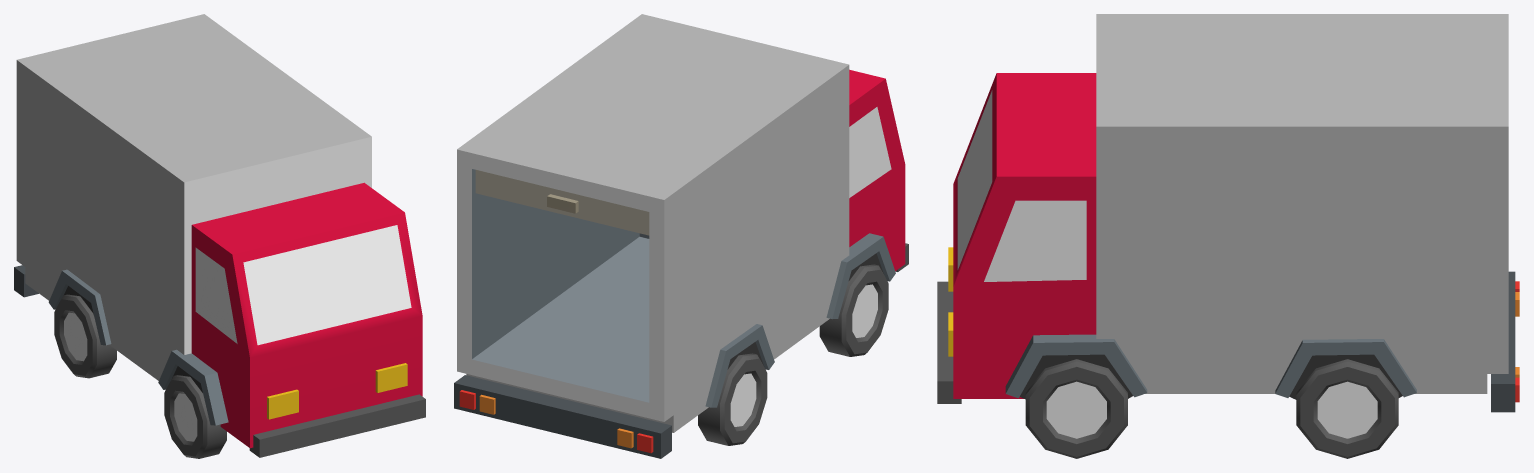
The model's file is Truck.fbx.
The picture shows the model from 3 angles, left to right: view 1: azimuth 30°, elevation 25°; view 2: azimuth 150°, elevation 25°; view 3: azimuth 270°, elevation 25°; orthographic projection. The views are drawn at different scales.
Visible parts, largest first — view 1: pCube16; view 2: pCube16; view 3: pCube16.
Part boxes in pixels (x1=…): pCube16: x1=14, y1=14, x2=425, y2=458; pCube16: x1=454, y1=14, x2=908, y2=458; pCube16: x1=937, y1=14, x2=1519, y2=458.
Bounding box in the file's own units: 268 × 536 × 334.
